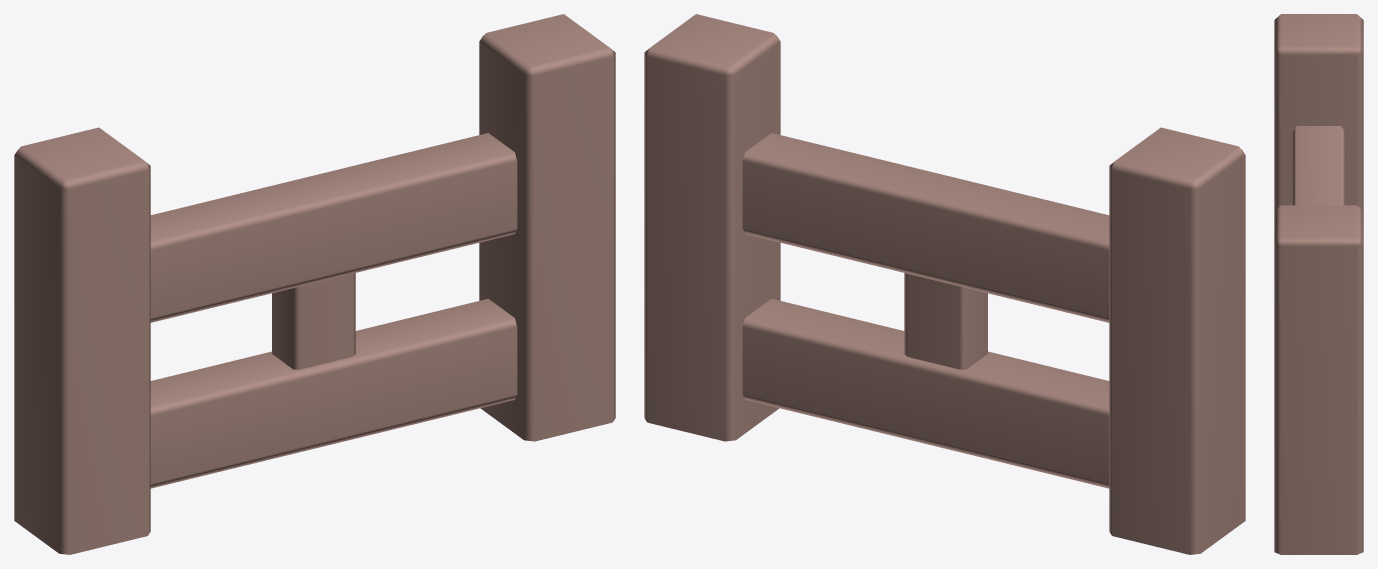
The model's file is Farm_17_Fence_1.glb.
3 views of the same model, side by side, from view 1: azimuth 30°, elevation 25°; view 2: azimuth 150°, elevation 25°; view 3: azimuth 270°, elevation 25° (orthographic). The views are drawn at different scales.
Visible parts, largest first — view 1: Farm_17_Fence_1; view 2: Farm_17_Fence_1; view 3: Farm_17_Fence_1.
Part boxes in pixels (bbox=[...]): Farm_17_Fence_1: bbox=[14, 14, 615, 554]; Farm_17_Fence_1: bbox=[644, 14, 1245, 554]; Farm_17_Fence_1: bbox=[1274, 14, 1363, 554].
Size of the model in its own units: 2.32 by 1.49 by 0.3822.
Materials: 1 (1 with a texture image).
